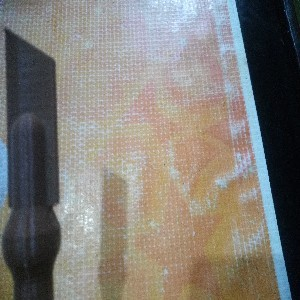cutter: (2, 25, 62, 300)
